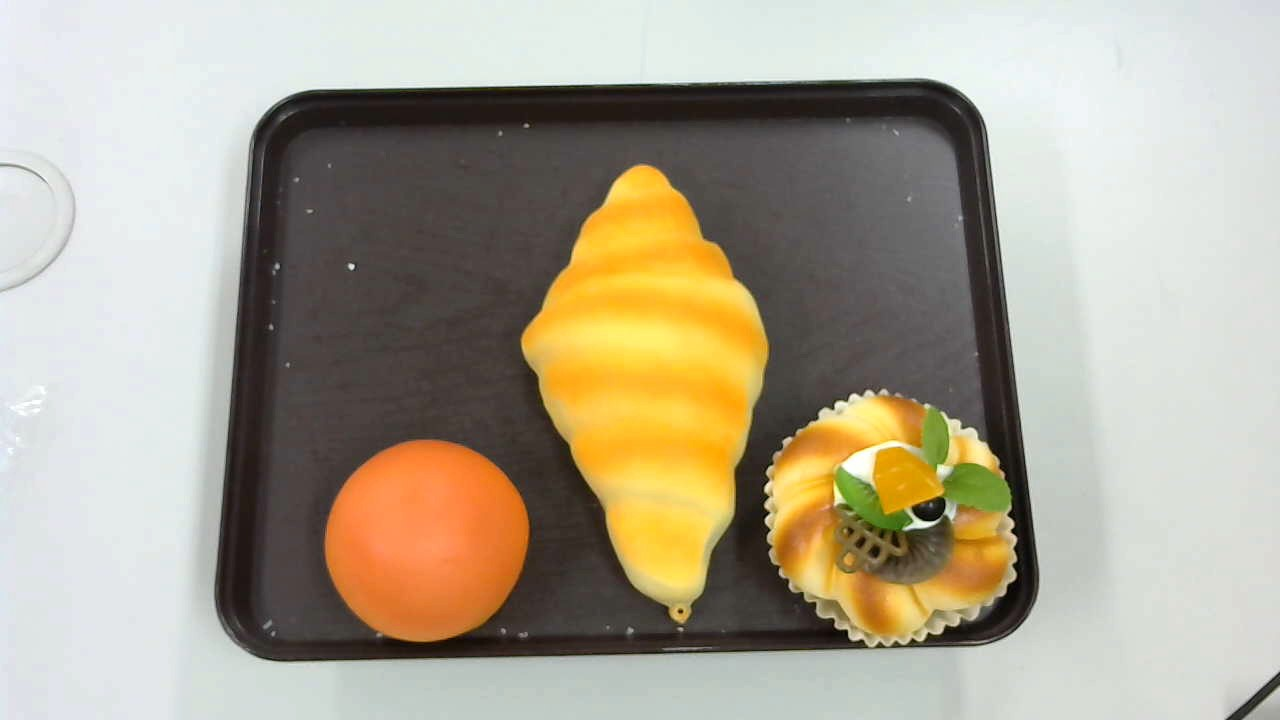bun: (324, 438, 530, 644)
croissant: (519, 164, 769, 623)
fruit tart: (764, 387, 1018, 648)
